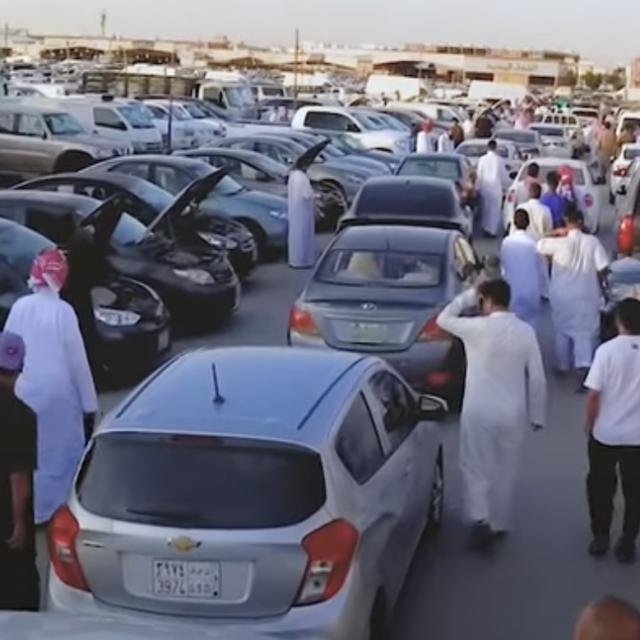license_plate: (150, 559, 220, 603), (352, 324, 386, 344), (157, 329, 169, 352)
